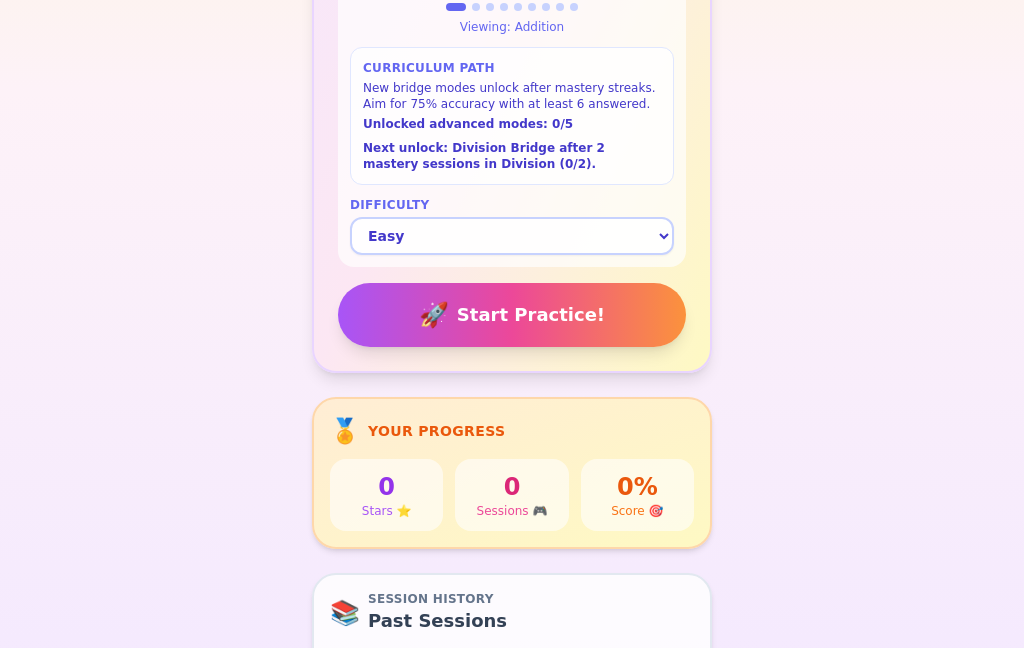
Test: keeps review/history compatible when older sessions have no timing details
The image size is (1024, 648).
(page scrolled)
Click the button "🚀 Start Practice!" at point(512, 315), box [338,283,686,347]
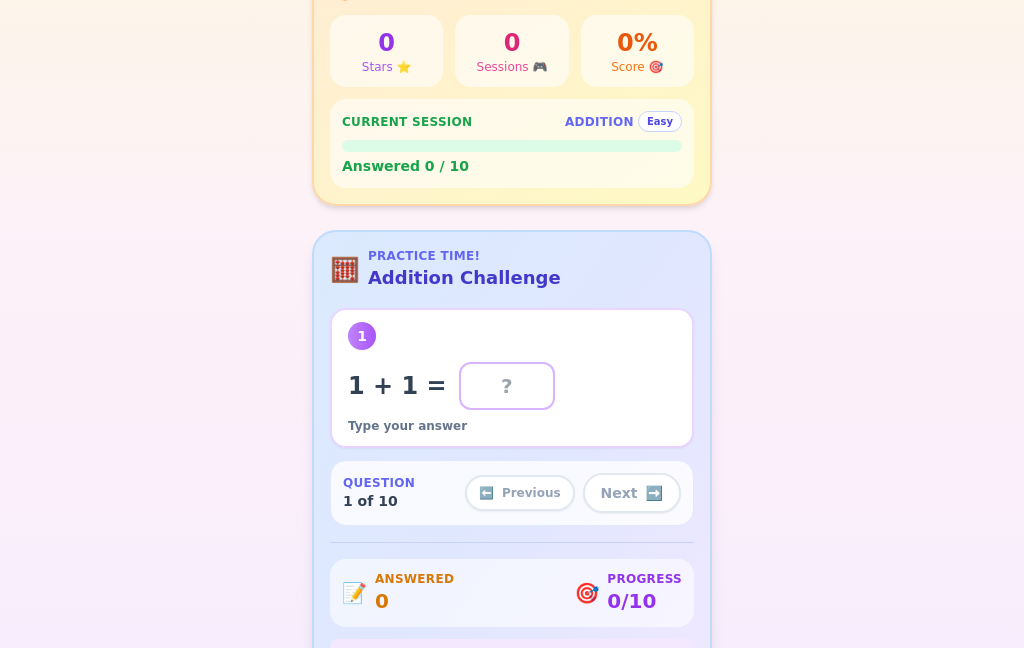
Type "2" into the field named "answer for question 1" at point(507, 386), box [459,362,555,410]
(page scrolled)
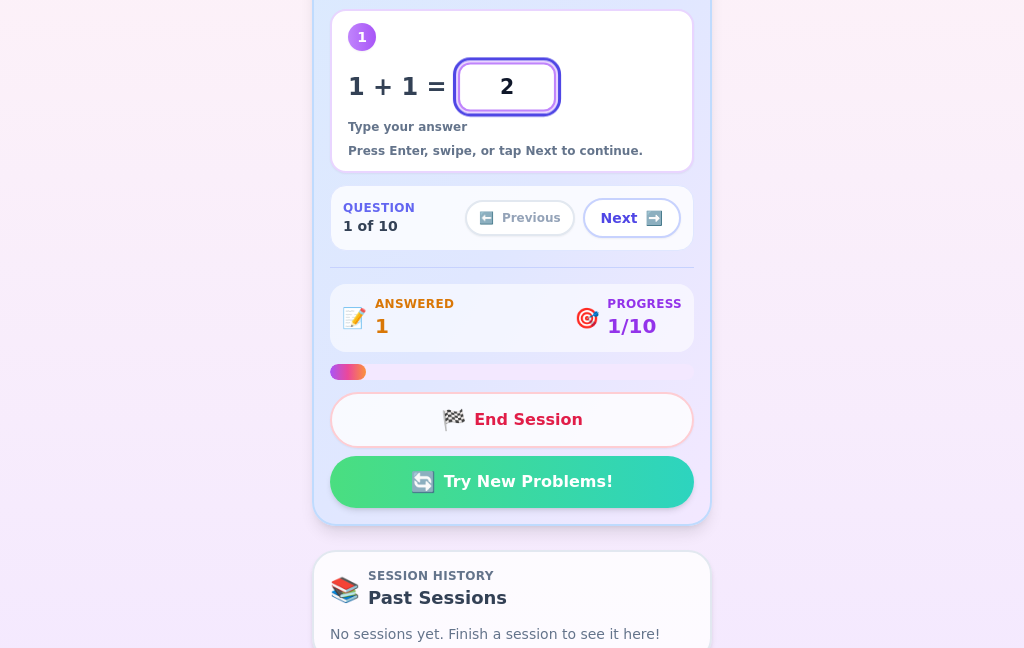
Click the button with aria-label "end current session" at point(512, 420), box [330,392,694,448]
(page scrolled)
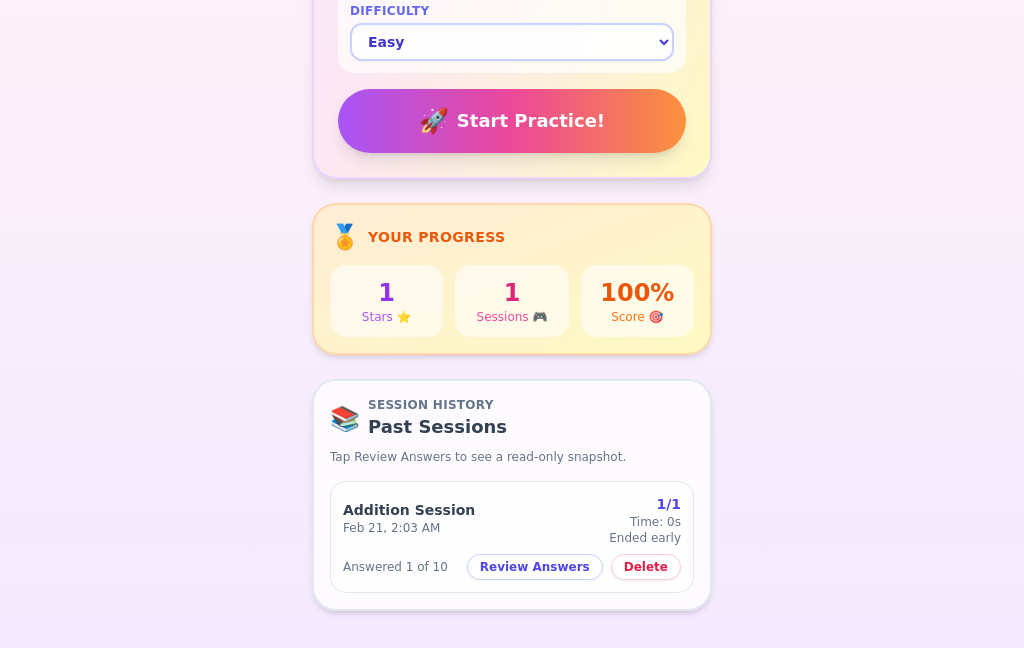
Click the button "Review Answers" at point(535, 567), box [467,554,603,580]
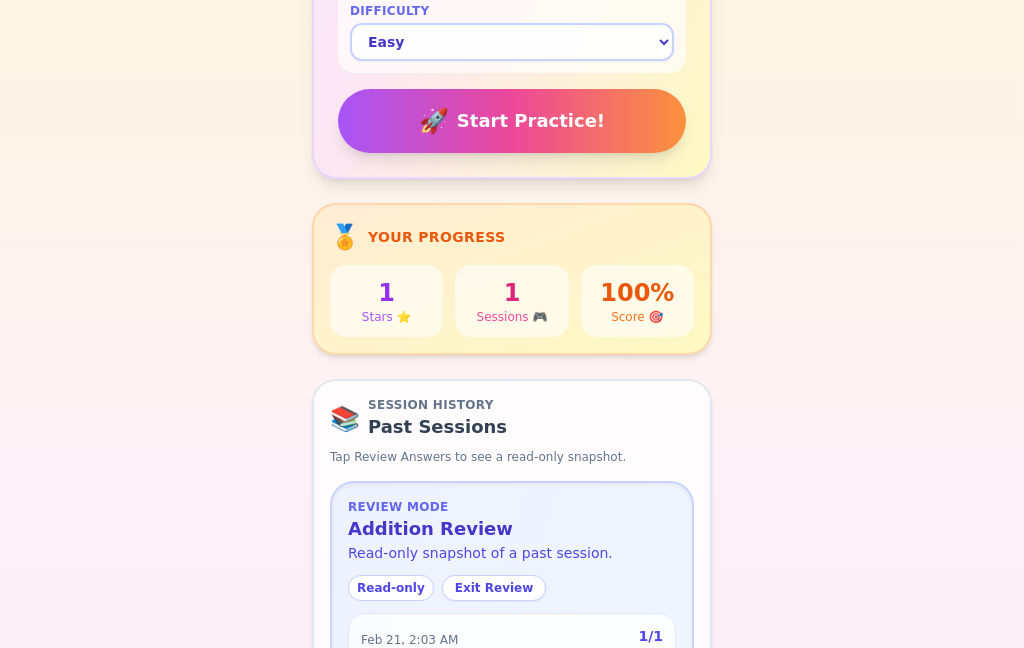
Check: the text "Review Mode" is shown, box [348,500,448,514]
